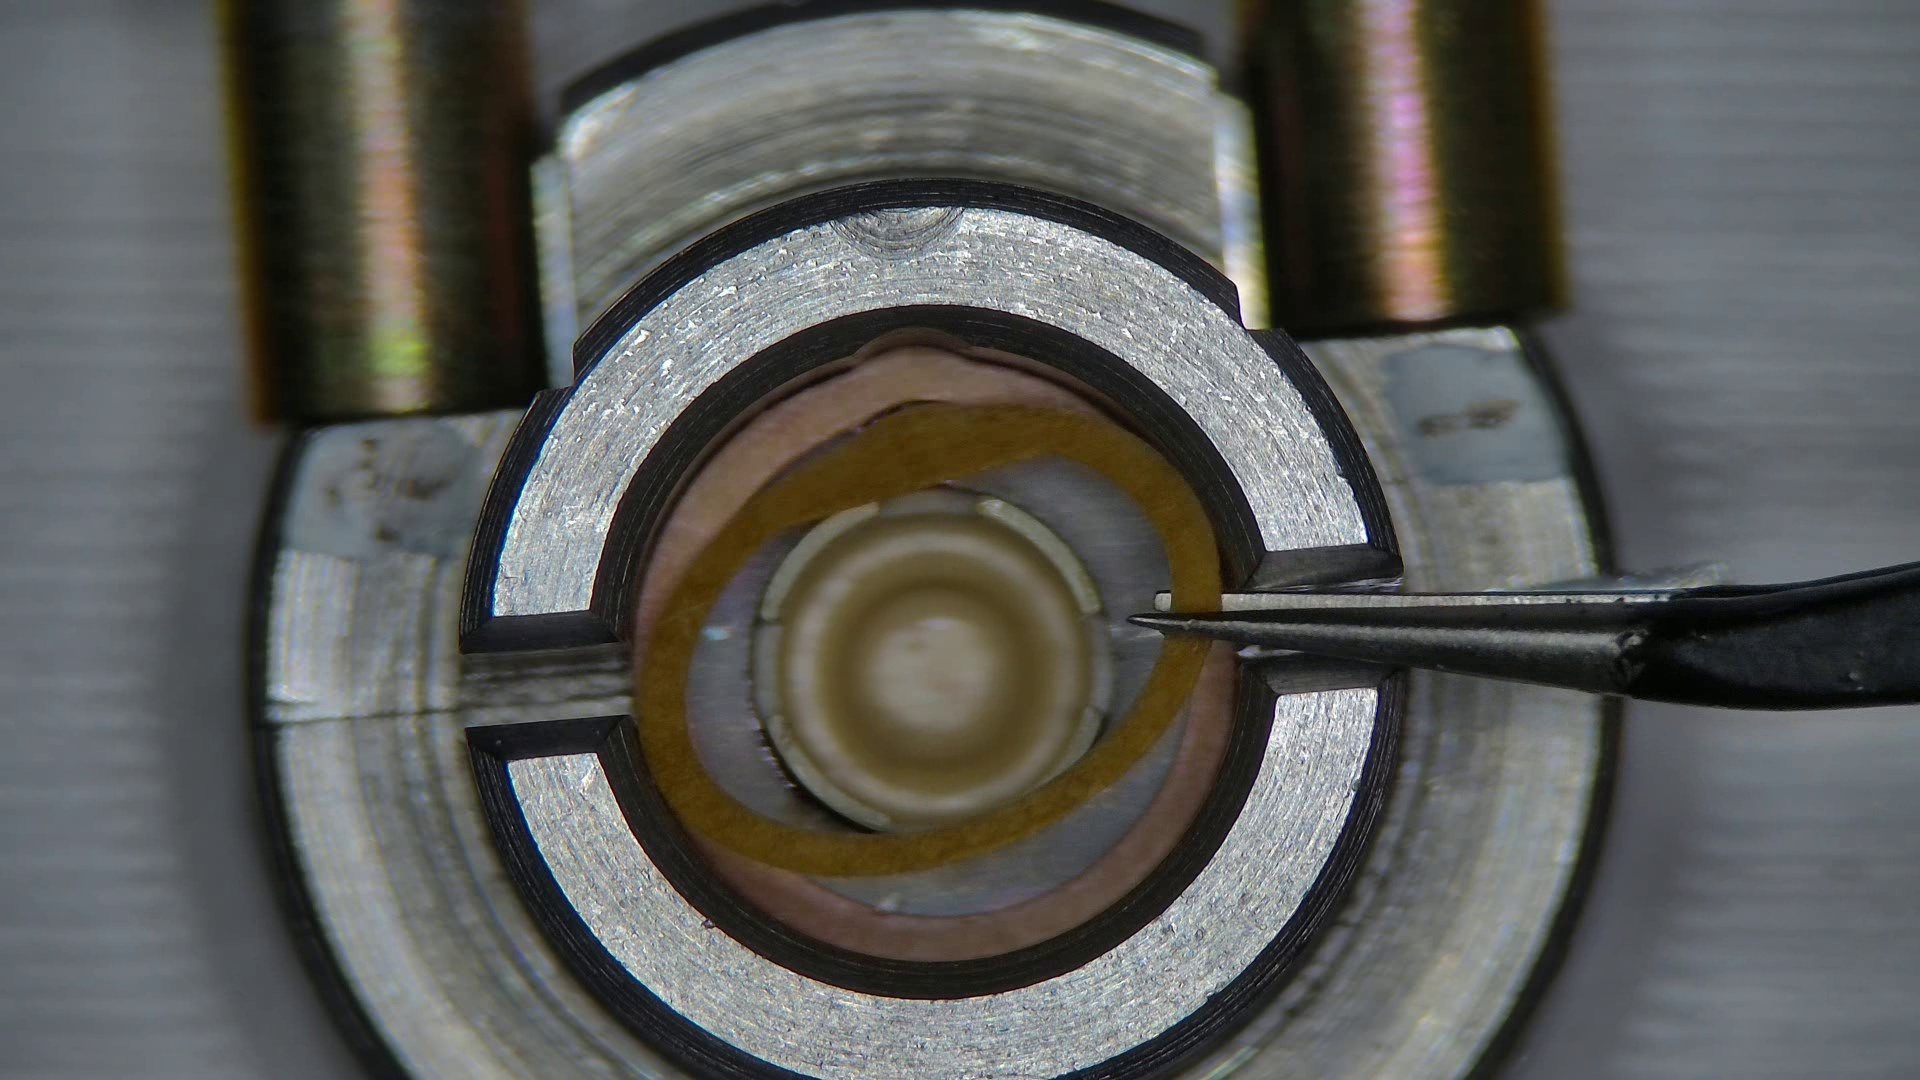GreyOring: (699, 667, 1228, 963), (633, 349, 1083, 626), (1097, 808, 1101, 810)
YellowOring: (837, 724, 1182, 916), (967, 454, 1168, 731), (690, 556, 819, 822), (820, 454, 829, 458), (1096, 735, 1100, 740)
redOring: (636, 392, 1222, 881)
